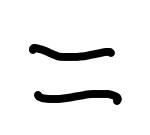eqv: (28, 43, 122, 105)
